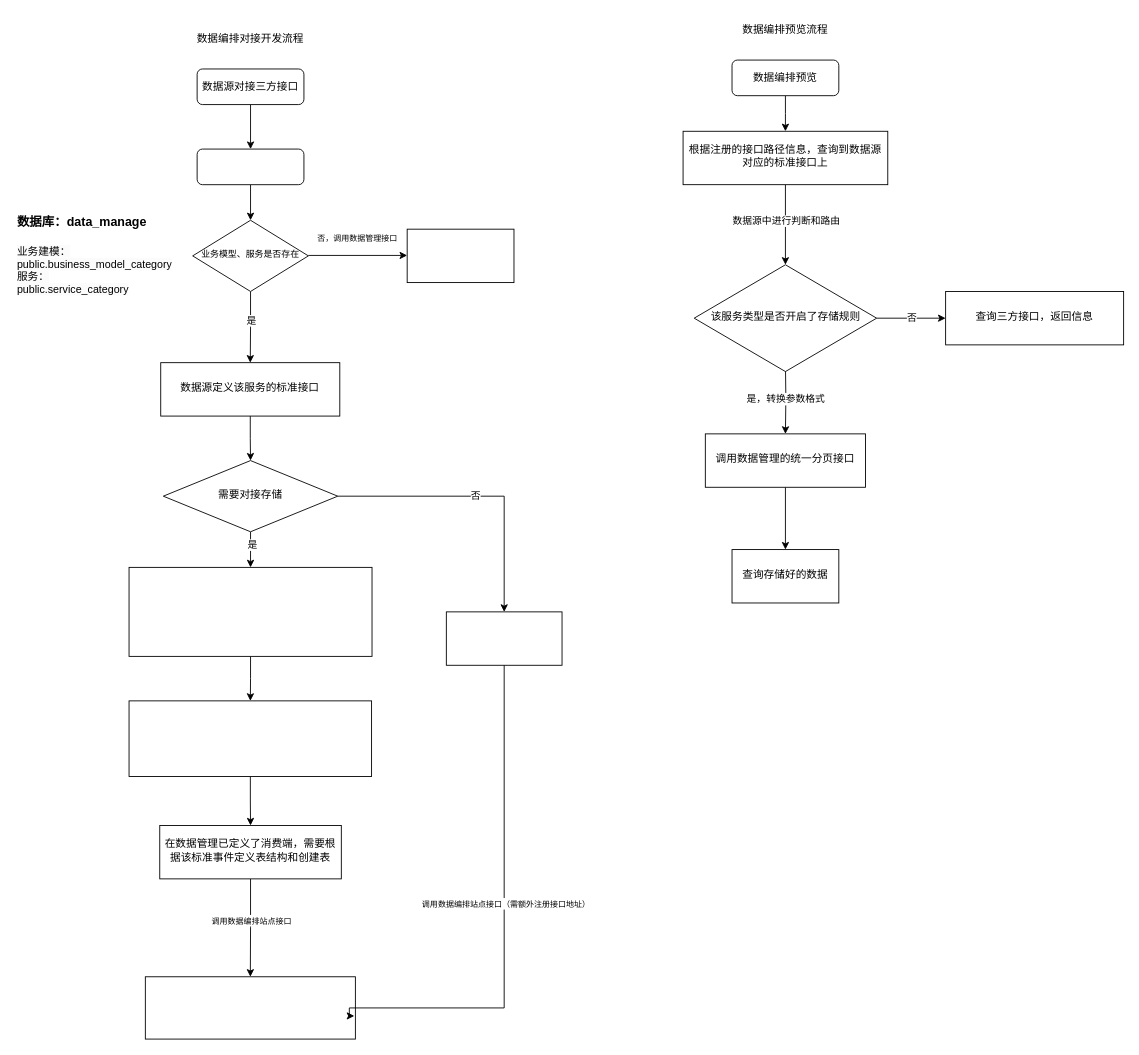
This 1139x1055 diagram has some shape labels left out. Here are the shapes that lost their labels. From the top down, the centre of each, then its label:
(x=250, y=166): 根据领域模型确定业务模型和服务
(x=460, y=255): 创建对应的业务模型或服务
(x=250, y=611): 使用业务模型作为topic、服务名称作为事件类型，定义标准外部事件
(x=503, y=638): 实现三方接口的对接
(x=250, y=738): 并在该接口中定义参数转换逻辑，并推送该消息。（如三方未提供推送功能，则需要在对接三方接口时，设置定时拉取数据逻辑）
(x=249, y=1007): 注册该服务到数据编排（public.data_arrange_data_source表） 出入参、枚举等
